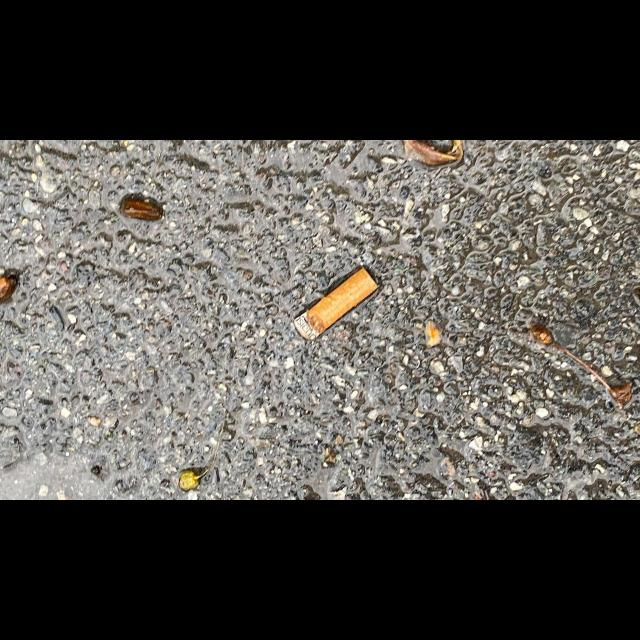cigarette: (292, 265, 379, 342)
